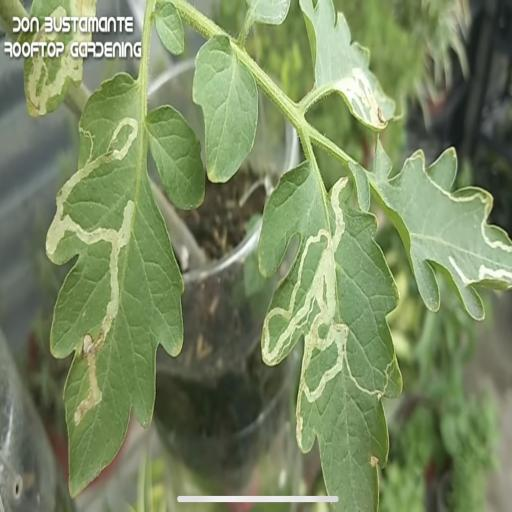Leaf Miner: (48, 72, 184, 494), (260, 162, 404, 512), (395, 144, 512, 322), (300, 0, 395, 128)
